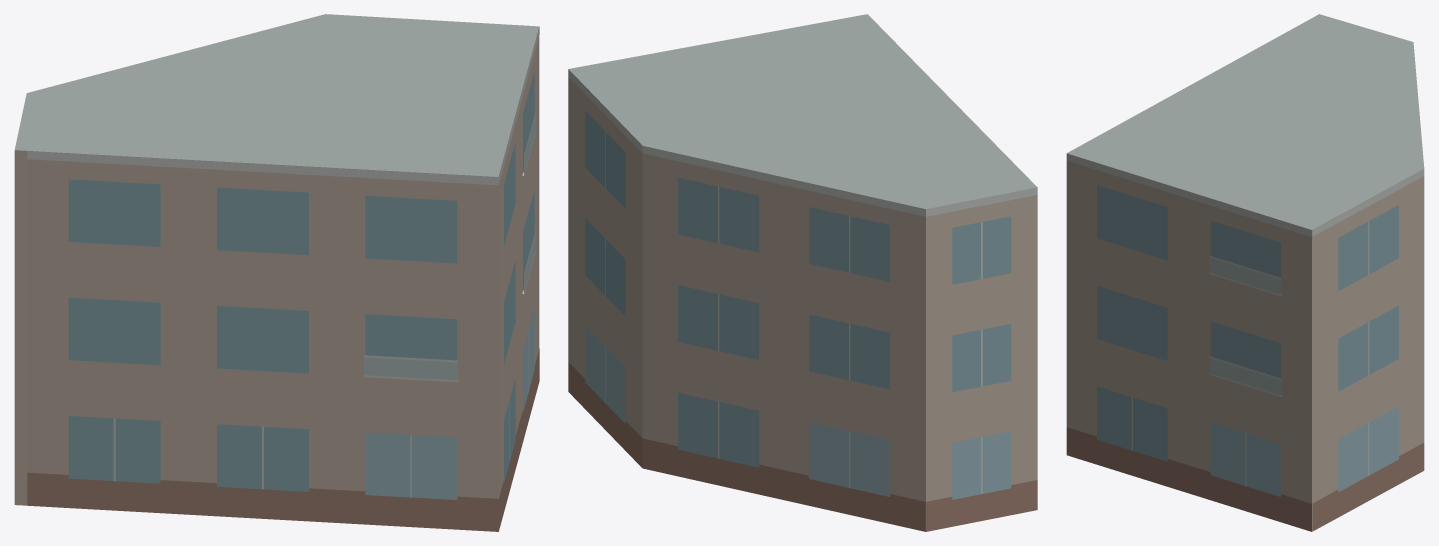
Rendered from survey-upis-32525426.glb.
3 views of the same model, side by side, from view 1: azimuth 30°, elevation 25°; view 2: azimuth 150°, elevation 25°; view 3: azimuth 270°, elevation 25° (orthographic). The views are drawn at different scales.
Visible parts, largest first — view 1: survey-upis-32525426.tmp; view 2: survey-upis-32525426.tmp; view 3: survey-upis-32525426.tmp.
Boxes of the visible parts, bbox=[...] form: survey-upis-32525426.tmp: bbox=[14, 14, 539, 531]; survey-upis-32525426.tmp: bbox=[568, 14, 1037, 531]; survey-upis-32525426.tmp: bbox=[1066, 14, 1424, 531].
Size of the model in its own units: 15.82 by 10.3 by 11.07.
